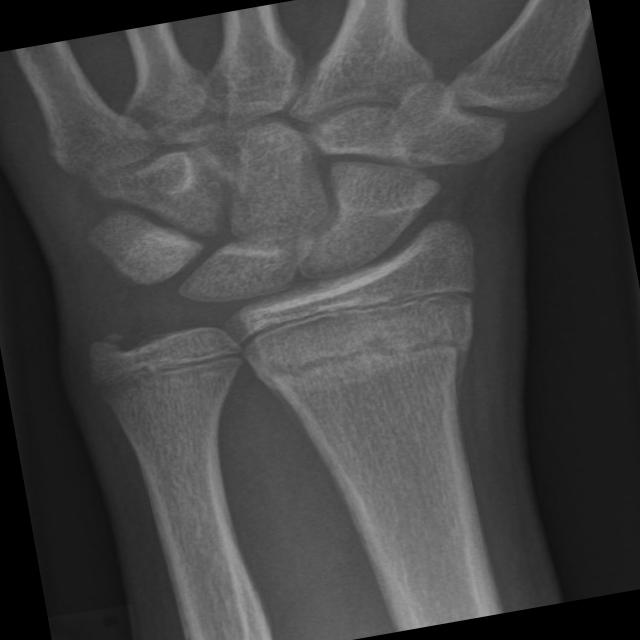fracture: (200, 244, 521, 365), (232, 301, 504, 406), (76, 319, 260, 409)
